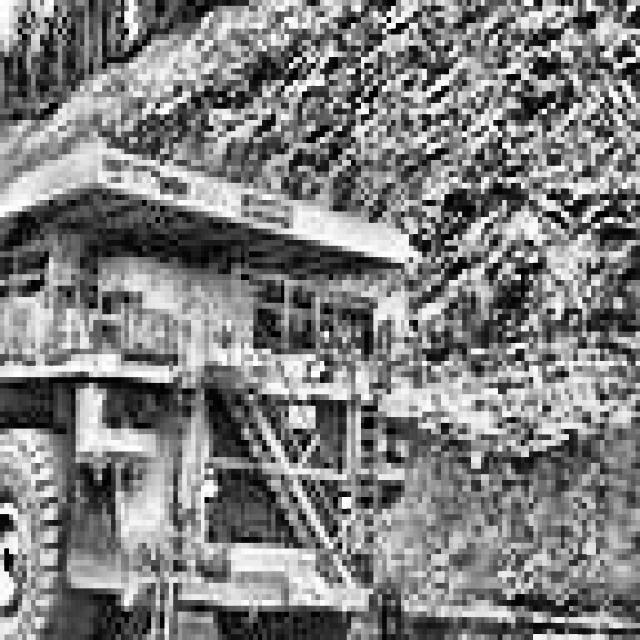dump_truck: (0, 108, 413, 640)
